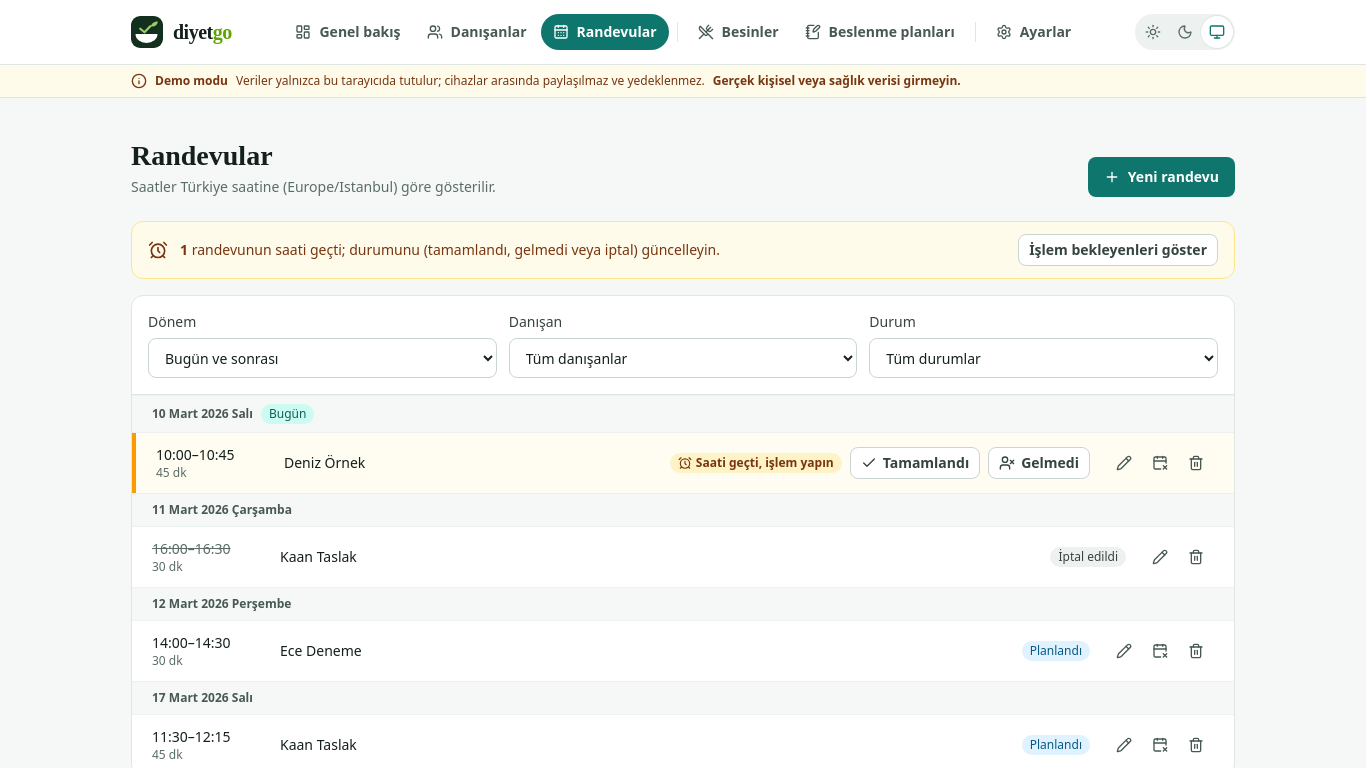
Test: Randevu düzenleme, iptal ve silme › düzenlemede süreyi korur ve durumu günceller
Expected: the element "10 Mart 2026 Salı" is shown, [132, 395, 1234, 493]
Click the button named "10 Mar 10:00 randevusunu düzenle" at (1124, 463), box [1106, 447, 1142, 479]
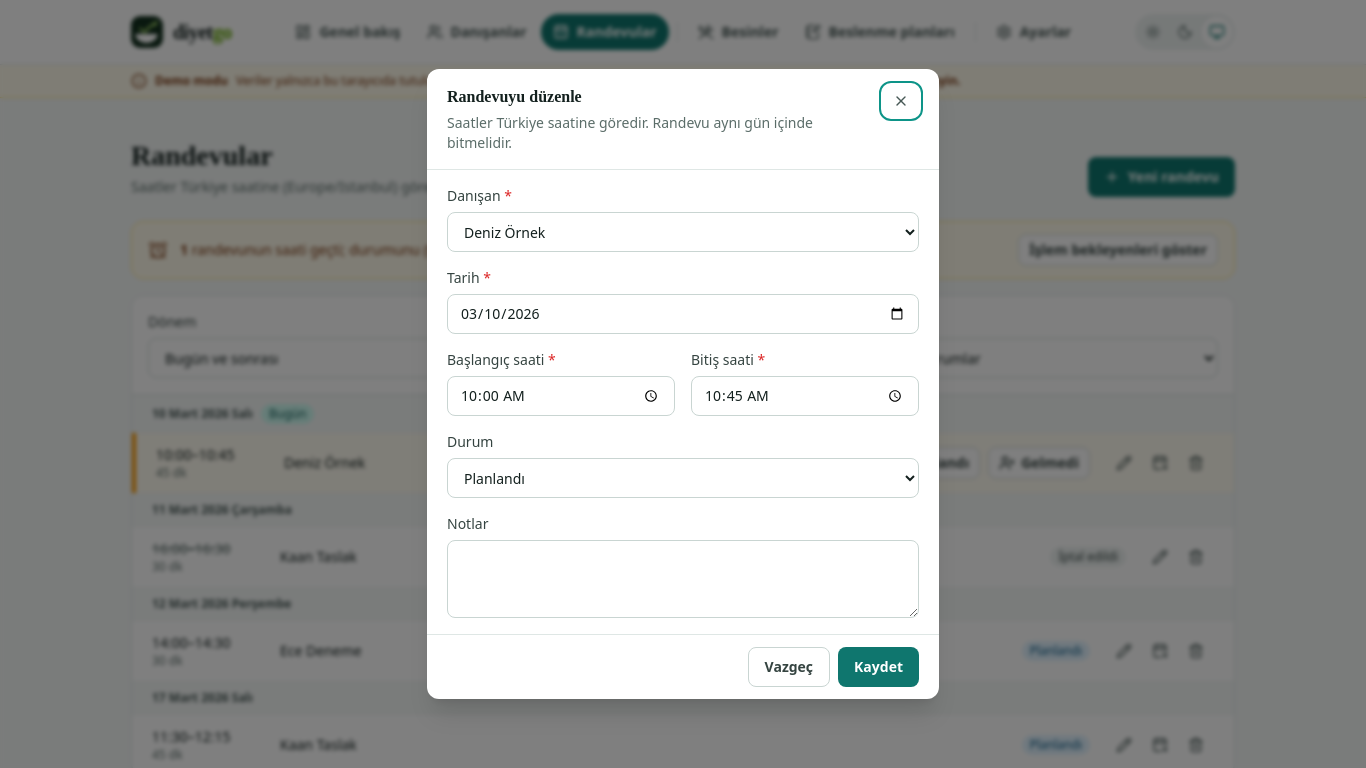
Expected: the time field labelled "Bitiş saati *" holds "10:45", [691, 376, 919, 416]
Replace the text in the time field labelled "Başlangıç saati *" with "10:15" at (561, 396), box [447, 376, 675, 416]
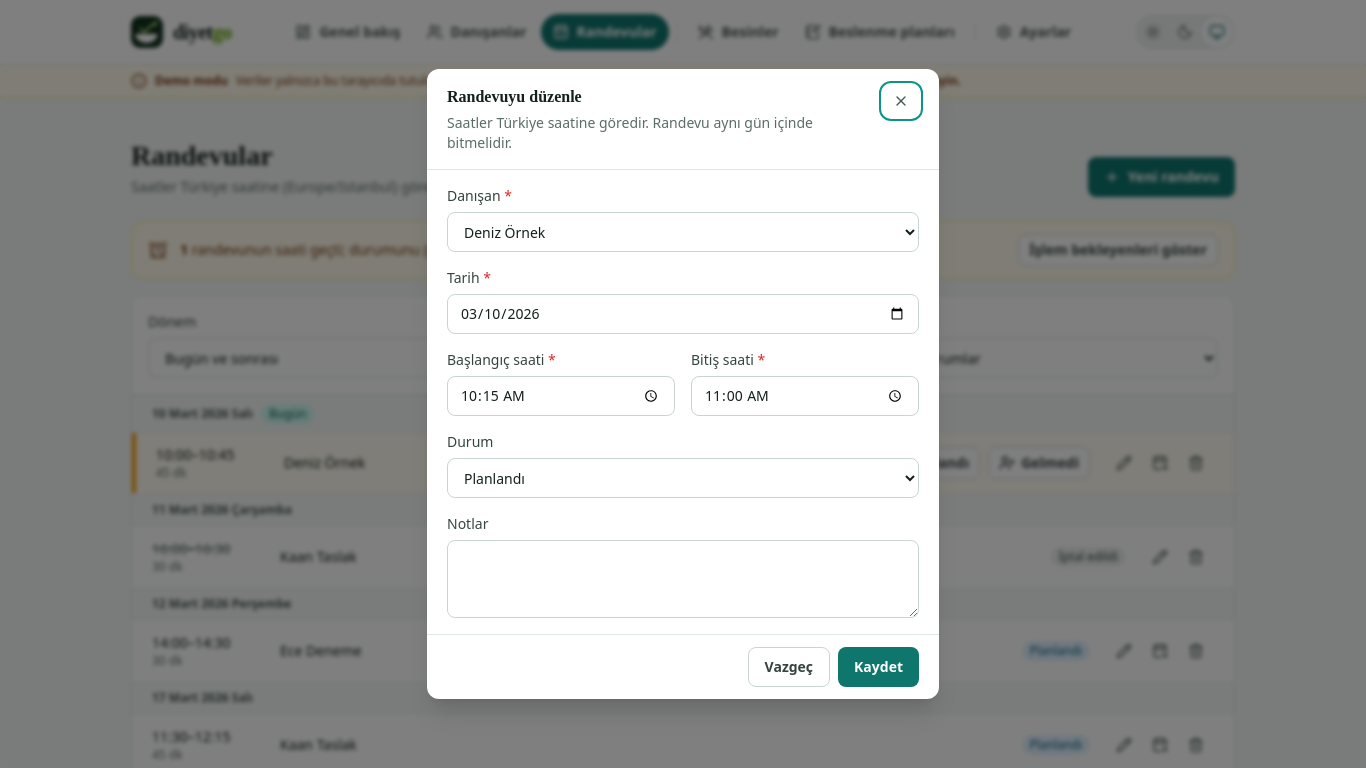
Expected: the time field labelled "Bitiş saati *" holds "11:00", [691, 376, 919, 416]
Select "Tamamlandı" in the dropdown labelled "Durum" at (683, 478), box [447, 458, 919, 498]
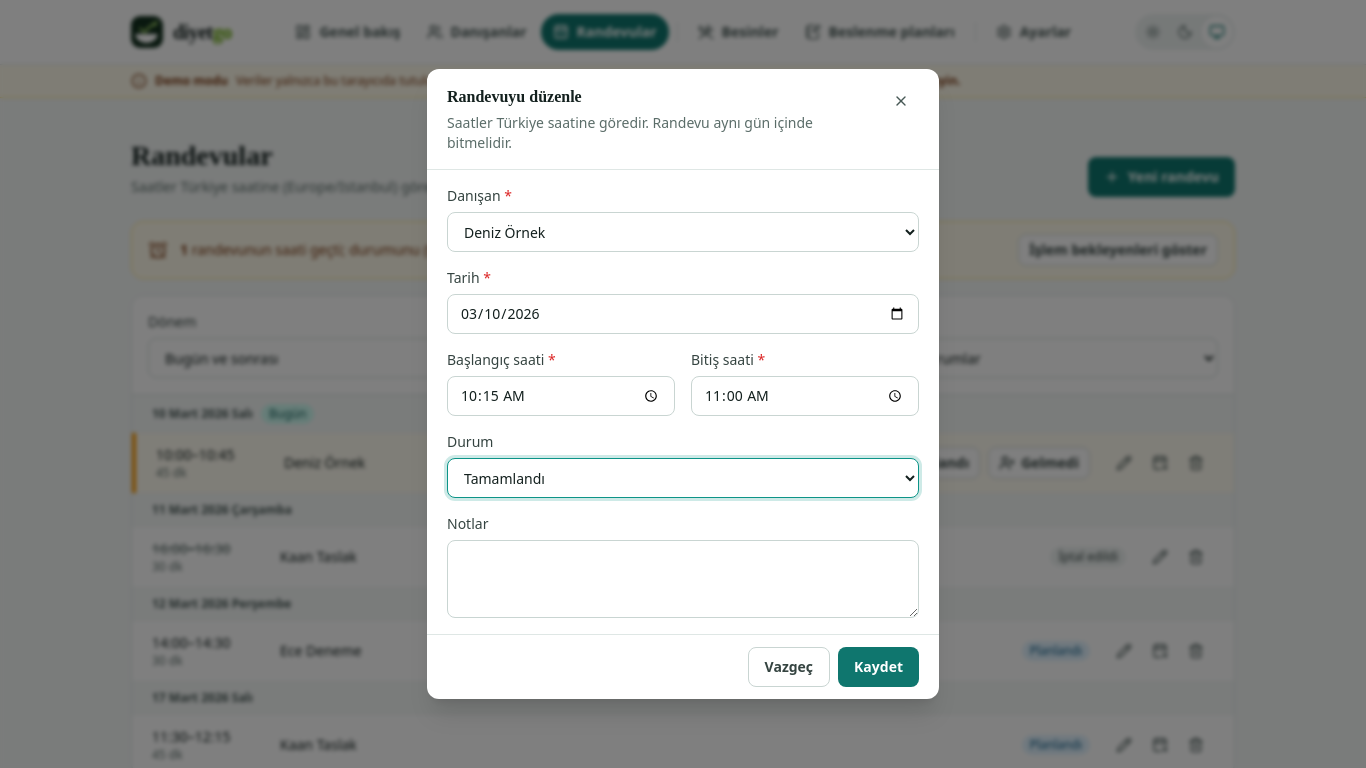
Click the button "Kaydet" at (879, 667), box [838, 647, 919, 687]
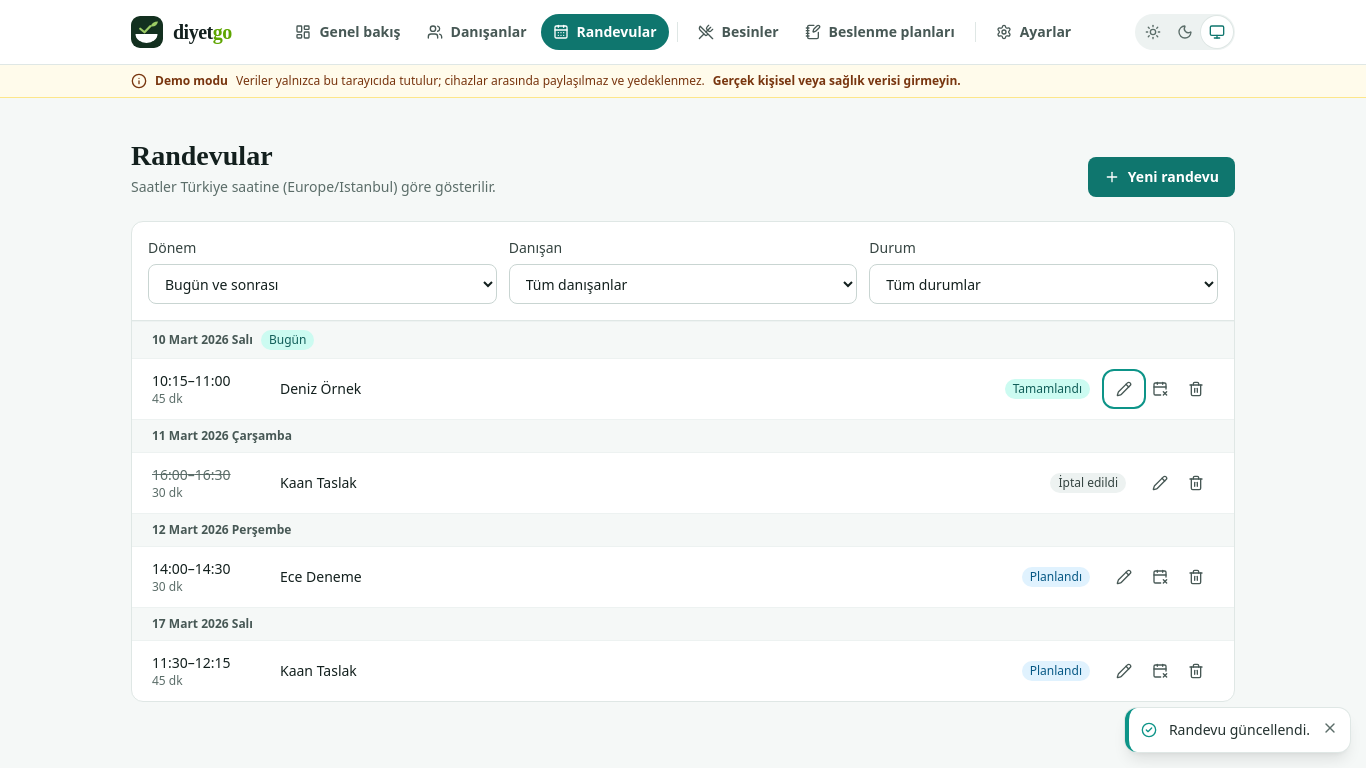
Expected: the text "Randevu güncellendi." is shown, [1169, 720, 1310, 740]
